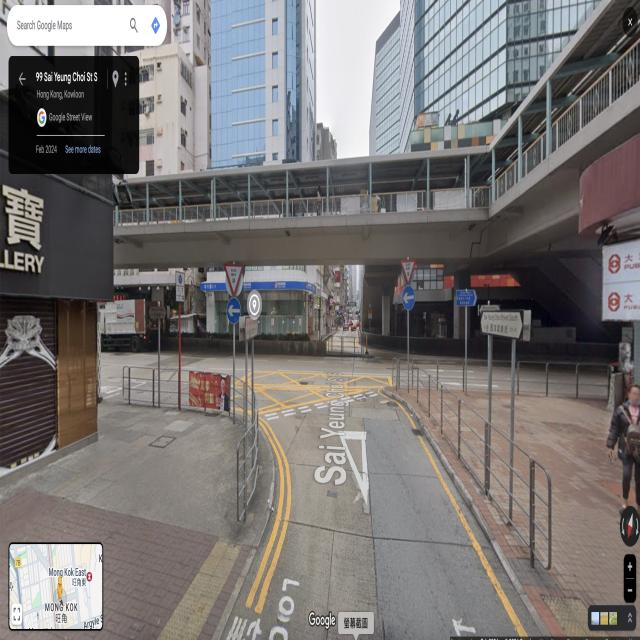Order-Sign: (227, 297, 241, 325), (402, 286, 415, 310), (176, 272, 185, 302)
Street-Direction-Sign: (480, 310, 524, 340), (148, 306, 167, 320)
Warning-Sign: (224, 262, 244, 297)
